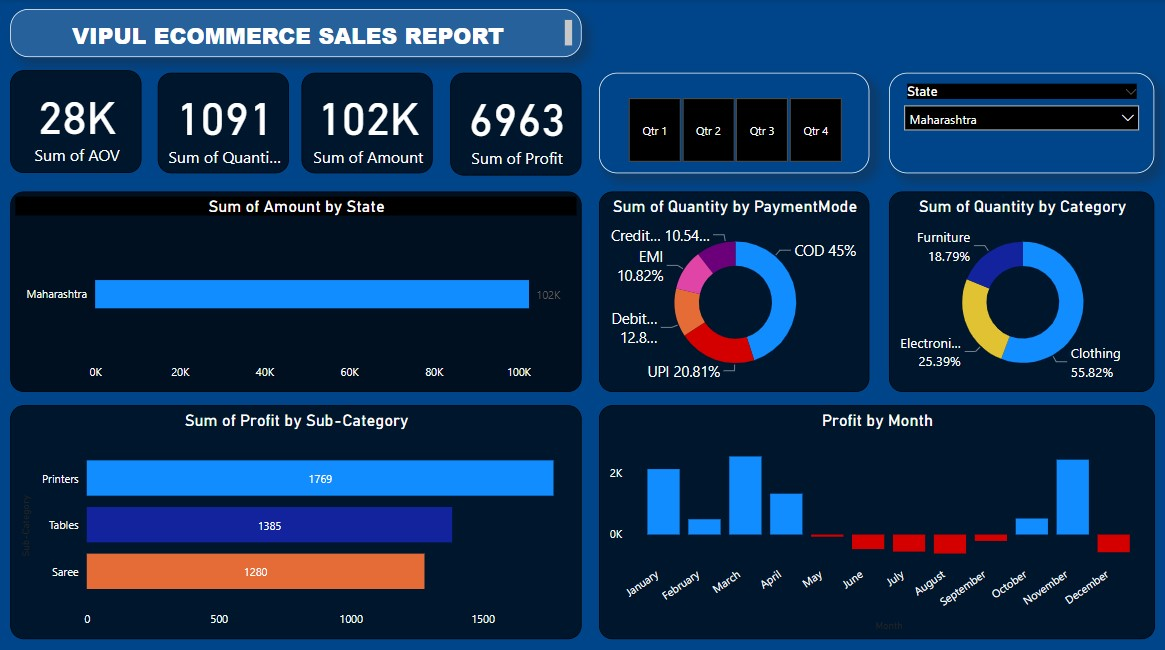

The page's visual inventory and layout, read from the dashboard file:
{"tool":"powerbi","page":{"name":"Page 1","canvas":[1280,720],"ordinal":0},"visuals":[{"type":"textbox","box":[12.9,11.4,627.1,52.9],"z":0},{"type":"columnChart","title":"Profit by Month","fields":{"Category":["Orders.Order Date.Variation.Date Hierarchy.Month"],"Y":["Sum(Details.Profit)"]},"box":[658.6,445.7,610,257.1],"z":1000},{"type":"barChart","title":"Sum of Profit by Sub-Category","fields":{"Category":["Details.Sub-Category"],"Series":["Details.Sub-Category"],"Y":["Sum(Details.Profit)"]},"box":[12.9,445.7,627.1,257.1],"z":2000},{"type":"donutChart","fields":{"Category":["Details.Category"],"Y":["Sum(Details.Quantity)"]},"box":[977.1,211.4,291.4,220],"z":3000},{"type":"donutChart","fields":{"Category":["Details.PaymentMode"],"Y":["Sum(Details.Quantity)"]},"box":[658.6,211.4,297.1,220],"z":4000},{"type":"card","fields":{"Values":["Sum(Details.Amount)"]},"box":[331.4,81.4,144.3,110],"z":5000},{"type":"card","fields":{"Values":["Sum(Details.Quantity)"]},"box":[174.3,81.4,144.3,110],"z":6000},{"type":"card","fields":{"Values":["Sum(Details.Profit)"]},"box":[495.7,81.4,144.3,112.9],"z":7000},{"type":"card","fields":{"Values":["Sum(Details.AOV)"]},"box":[12.9,78.6,144.3,112.9],"z":8000},{"type":"barChart","title":"Sum of Amount by State","fields":{"Y":["Sum(Details.Amount)"],"Category":["Orders.State"]},"box":[12.9,211.4,627.1,220],"z":9000},{"type":"slicer","fields":{"Values":["Orders.Order Date.Variation.Date Hierarchy.Quarter"]},"box":[658.6,81.4,297.1,110],"z":10000},{"type":"slicer","fields":{"Values":["Orders.State"]},"box":[977.1,81.4,291.4,110],"z":11000}]}

Visuals, with their boxes in screenshot pixels (x1, y1, x2, y2), scaled from the page's 1280x720 canvas onto the 1165x650 screenshot:
textbox: detection(12, 10, 582, 58)
"Profit by Month" columnChart: detection(599, 402, 1155, 634)
"Sum of Profit by Sub-Category" barChart: detection(12, 402, 582, 634)
donutChart - Details.Category x Sum(Details.Quantity): detection(889, 191, 1155, 389)
donutChart - Details.PaymentMode x Sum(Details.Quantity): detection(599, 191, 870, 389)
card - Sum(Details.Amount): detection(302, 73, 433, 173)
card - Sum(Details.Quantity): detection(159, 73, 290, 173)
card - Sum(Details.Profit): detection(451, 73, 582, 175)
card - Sum(Details.AOV): detection(12, 71, 143, 173)
"Sum of Amount by State" barChart: detection(12, 191, 582, 389)
slicer - Orders.Order Date.Variation.Date Hierarchy.Quarter: detection(599, 73, 870, 173)
slicer - Orders.State: detection(889, 73, 1155, 173)
